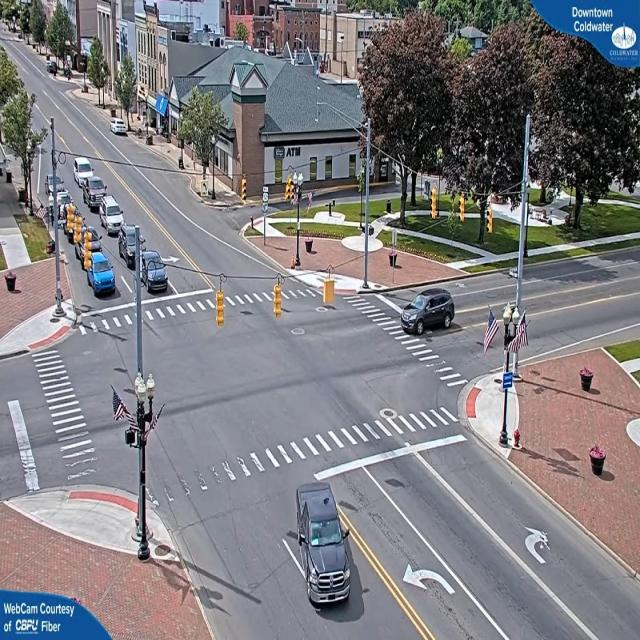car: (287, 482, 353, 606), (401, 288, 457, 339), (83, 248, 118, 298), (141, 248, 170, 292), (102, 199, 126, 237), (120, 227, 141, 266), (112, 120, 129, 136)
